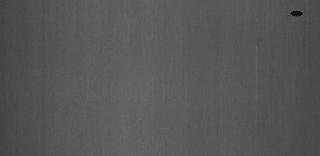punching hole: (289, 10, 305, 18)
